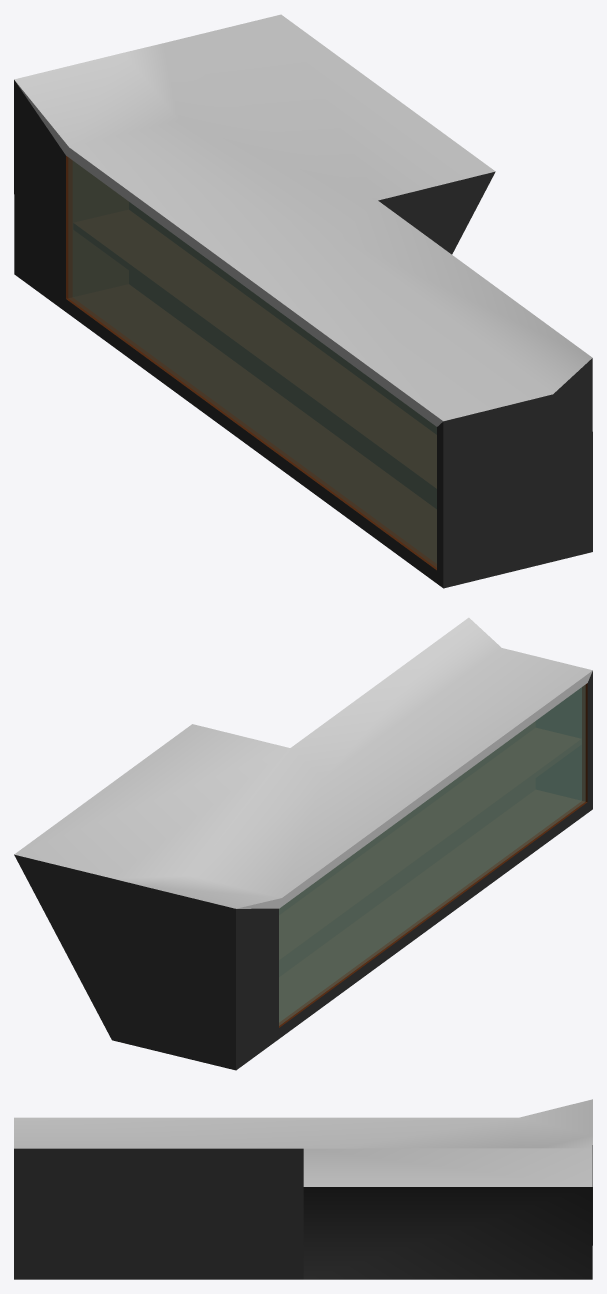
Rendered from cash_register_table.fbx.
The picture shows the model from 3 angles, top to bottom: view 1: azimuth 30°, elevation 25°; view 2: azimuth 150°, elevation 25°; view 3: azimuth 270°, elevation 25°; orthographic projection. The views are drawn at different scales.
Parts seen in each view (by area): view 1: cash_register_table, cash_register_glass; view 2: cash_register_table, cash_register_glass; view 3: cash_register_table.
Boxes of the visible parts, <box> form: cash_register_table: <box>14,14,592,588</box>; cash_register_glass: <box>68,158,436,567</box>; cash_register_table: <box>14,617,592,1070</box>; cash_register_glass: <box>279,685,585,1025</box>; cash_register_table: <box>14,1099,592,1279</box>.
Size of the model in its own units: 0.8385 by 0.5841 by 2.34.
